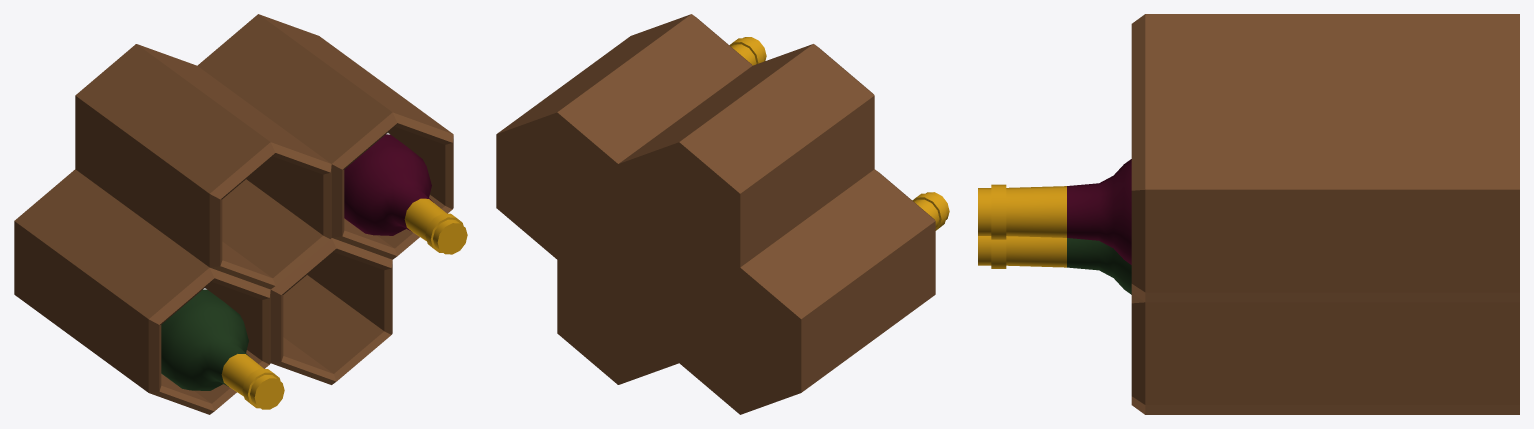
File: 4fc99ebf-cf64-4c49-b23c-abe838be9ad6.glb
The picture shows the model from 3 angles, left to right: view 1: azimuth 30°, elevation 25°; view 2: azimuth 150°, elevation 25°; view 3: azimuth 270°, elevation 25°; orthographic projection. The views are drawn at different scales.
Parts seen in each view (by area): view 1: WineRack, RedBottleOfWine, GreenBottleOfWine; view 2: WineRack, GreenBottleOfWine, RedBottleOfWine; view 3: WineRack, RedBottleOfWine, GreenBottleOfWine.
Part boxes in pixels (x1,y1,x2,y2): WineRack: (14,14,453,414); RedBottleOfWine: (344,133,467,254); GreenBottleOfWine: (161,288,284,409); WineRack: (496,14,935,414); GreenBottleOfWine: (912,192,949,230); RedBottleOfWine: (729,37,766,65); WineRack: (1131,14,1519,414); RedBottleOfWine: (978,159,1131,264); GreenBottleOfWine: (978,236,1131,294).
Size of the model in its own units: 0.3605 by 0.2914 by 0.398.
2 materials, 2 textured.
